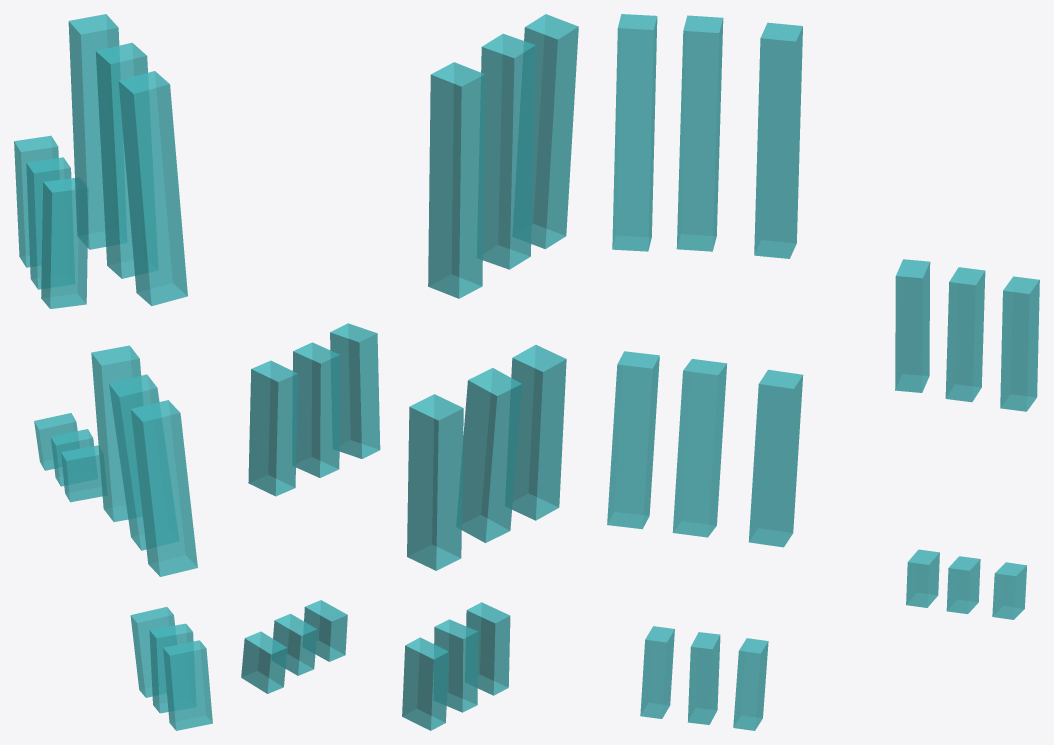
Rendered from plasma ball hologram puzzle lock hologram barriers.fbx.
3 renders of one model, left to right at view 1: azimuth 30°, elevation 25°; view 2: azimuth 150°, elevation 25°; view 3: azimuth 270°, elevation 25°, orthographic.
Visible parts, largest first — view 1: a63b3dbc-3a41-42e2-8335-ec02df1c101b; view 2: a63b3dbc-3a41-42e2-8335-ec02df1c101b; view 3: a63b3dbc-3a41-42e2-8335-ec02df1c101b.
Boxes of the visible parts, <box> form: a63b3dbc-3a41-42e2-8335-ec02df1c101b: <box>14,14,212,730</box>; a63b3dbc-3a41-42e2-8335-ec02df1c101b: <box>241,14,578,730</box>; a63b3dbc-3a41-42e2-8335-ec02df1c101b: <box>607,14,1039,730</box>.
Bounding box in the file's own units: 15759 × 72479 × 42307.
